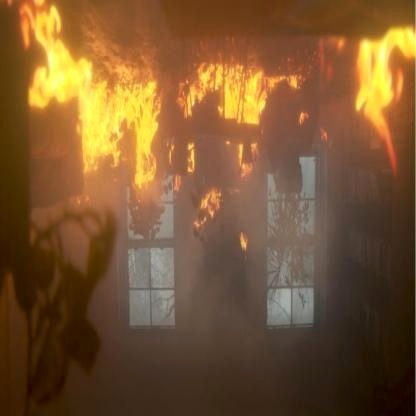fire: (0, 6, 413, 247)
